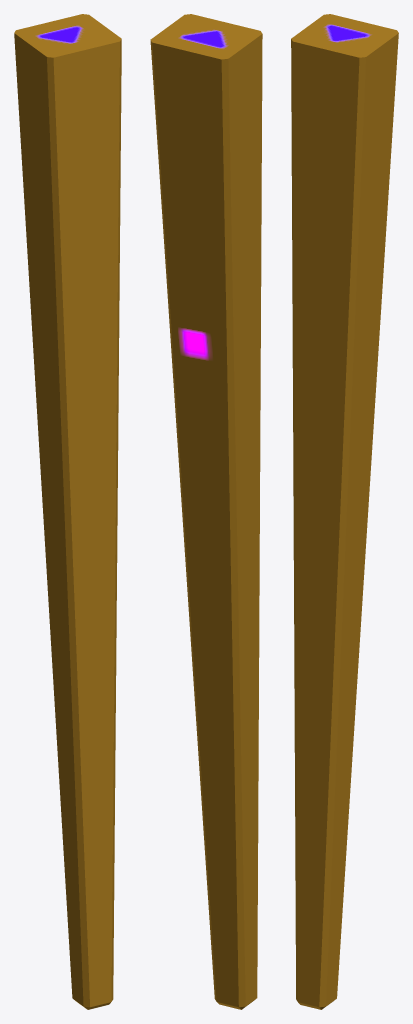
File: chairLegFront.glb
The picture shows the model from 3 angles, left to right: view 1: azimuth 30°, elevation 25°; view 2: azimuth 150°, elevation 25°; view 3: azimuth 330°, elevation 25°; orthographic projection. The views are drawn at different scales.
Parts seen in each view (by area): view 1: frontLeg_right; view 2: frontLeg_right; view 3: frontLeg_right.
Boxes of the visible parts, <box> form: frontLeg_right: <box>14,14,121,1009</box>; frontLeg_right: <box>150,14,262,1009</box>; frontLeg_right: <box>291,14,398,1009</box>.
Bounding box in the file's own units: 0.0381 × 0.46 × 0.047.
Materials: 1 (1 with a texture image).
